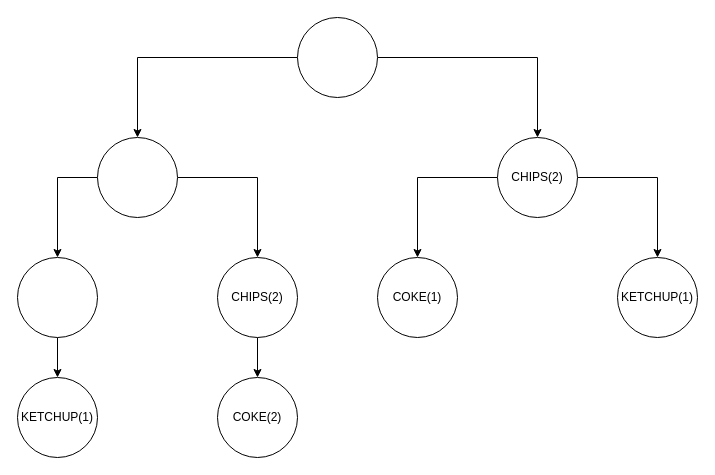
This 715x475 diagram has some shape labels left out. Each missing label, with the centre of its shape:
"BUNS(2)" belongs at pixel 57 297.
"HOTDOGS(4)" belongs at pixel 137 177.
"ROOT" belongs at pixel 337 57.
